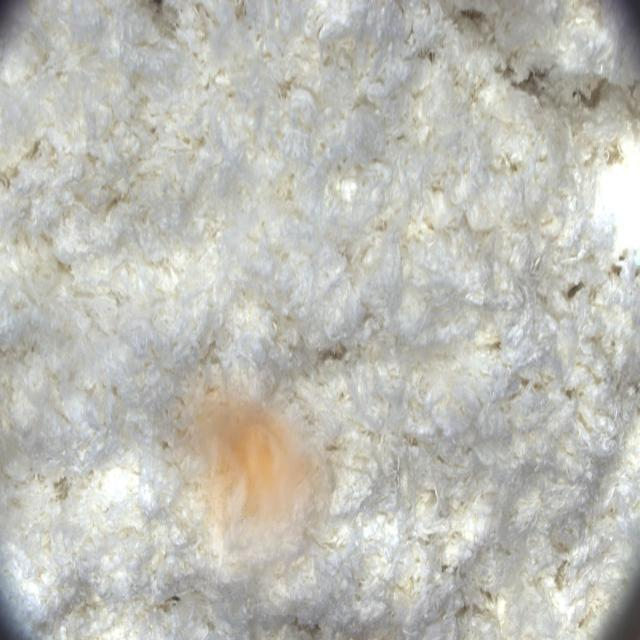dust: (152, 367, 349, 615)
